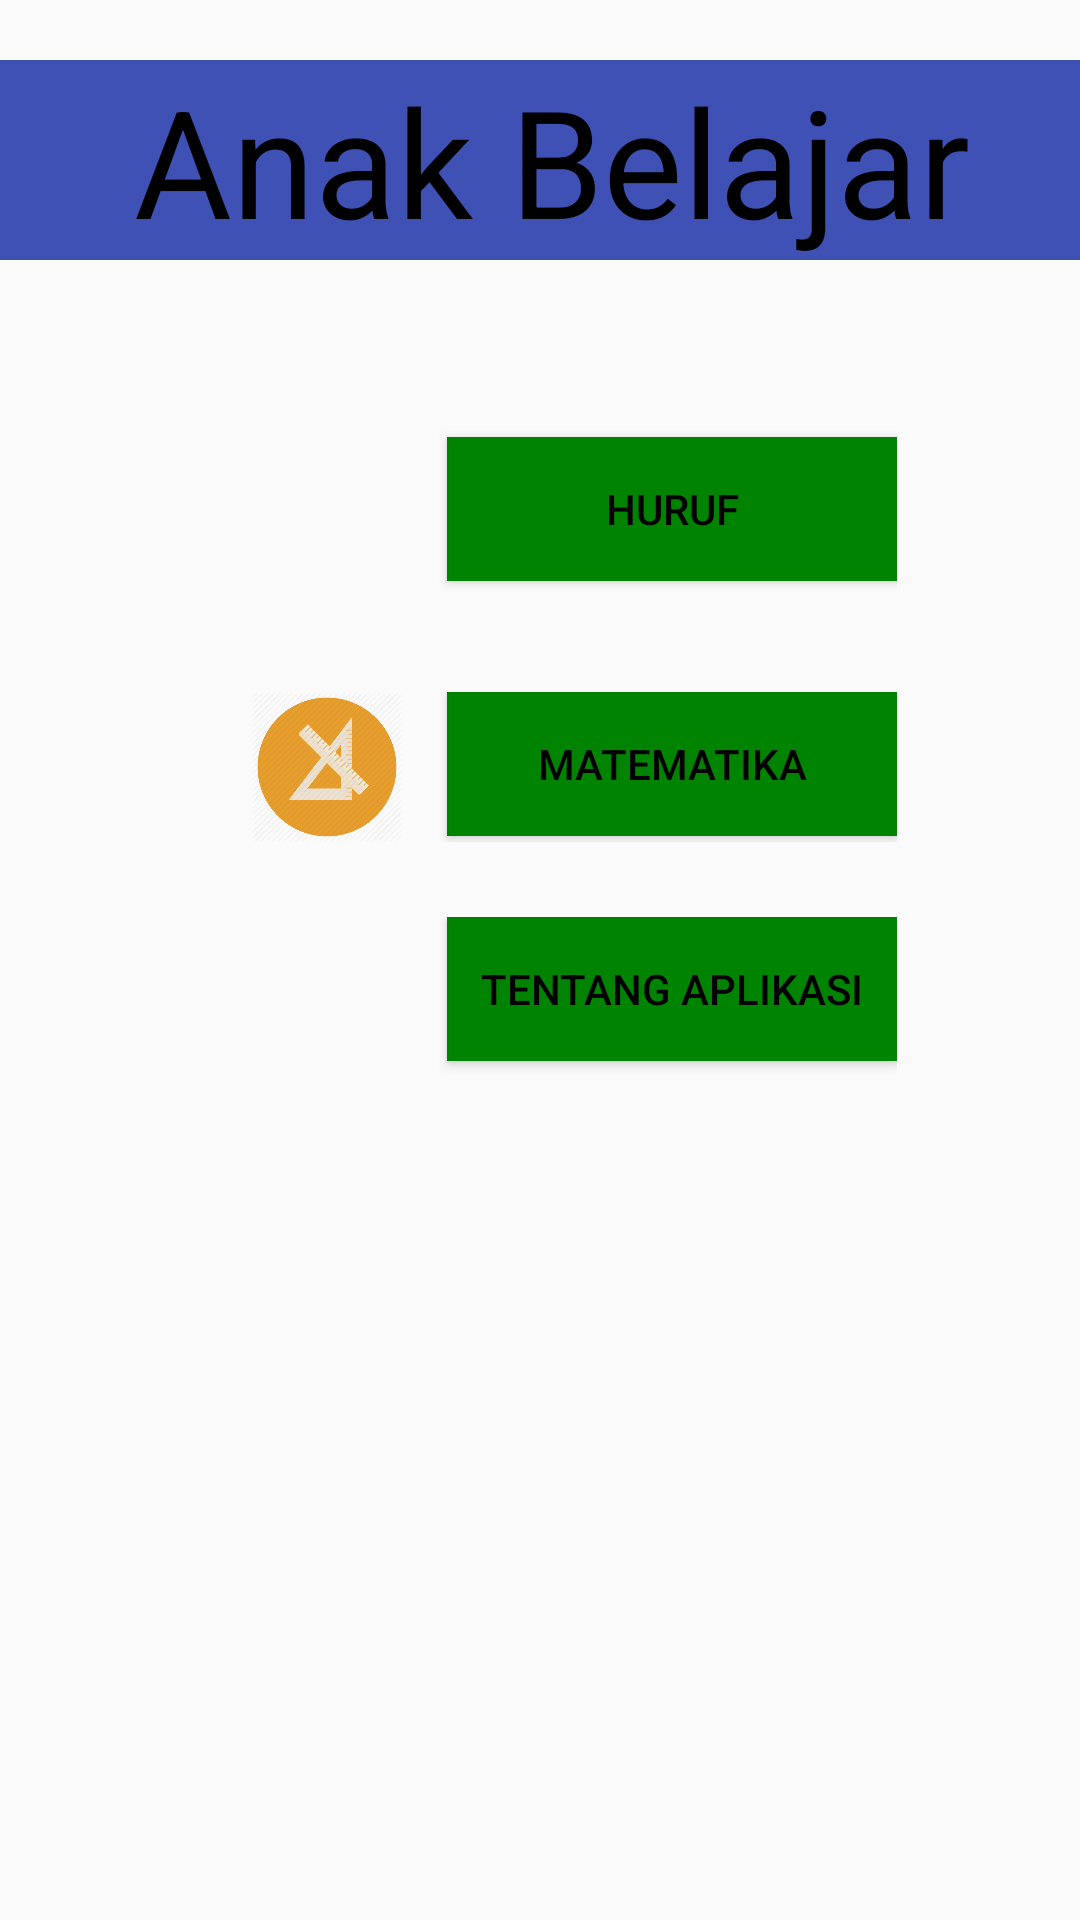

Icons on this 1080×1920 Android screen, each with its box as (left=x1, top=y1, right=x2, bottom=y2):
math: (left=257, top=697, right=397, bottom=837)
